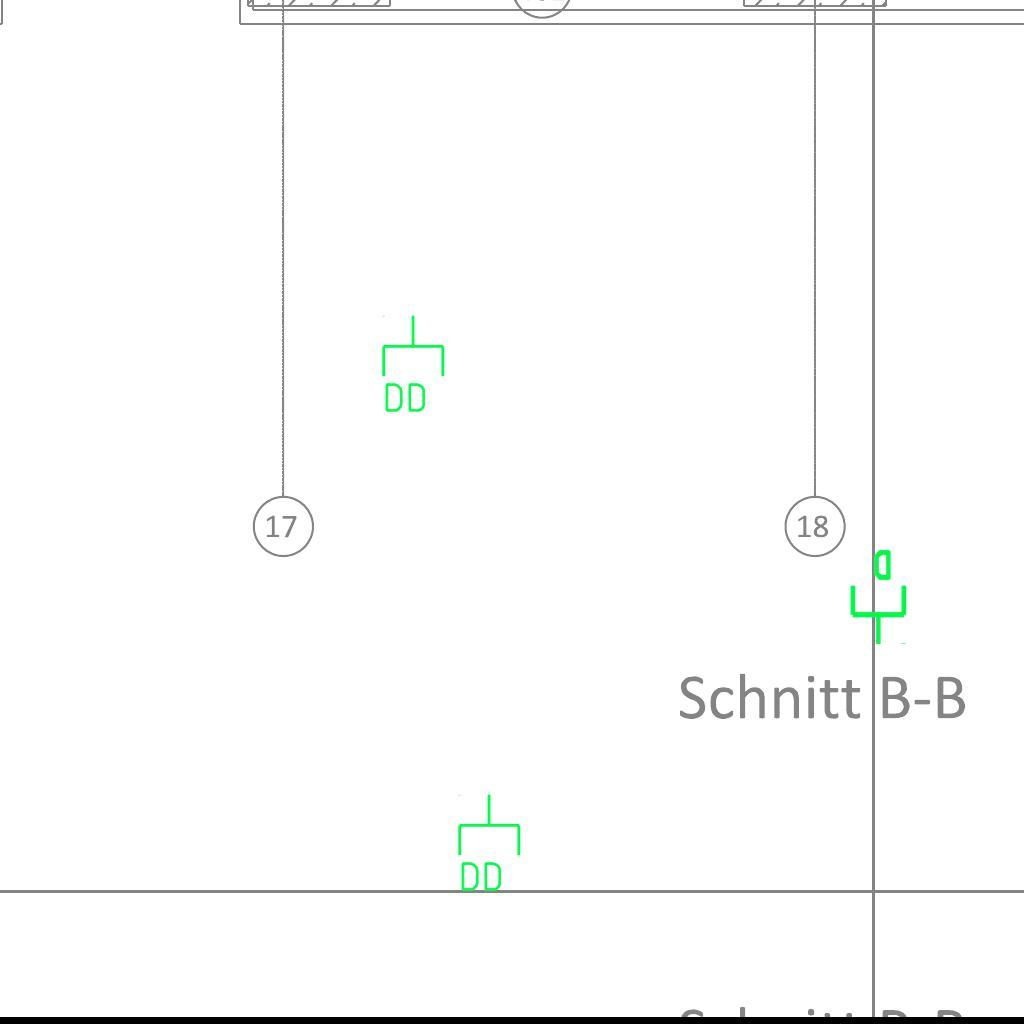Datenanschluss_einfach: (842, 547, 911, 647)
Datenanschluss_zweifach: (454, 792, 523, 895), (378, 313, 447, 416)
